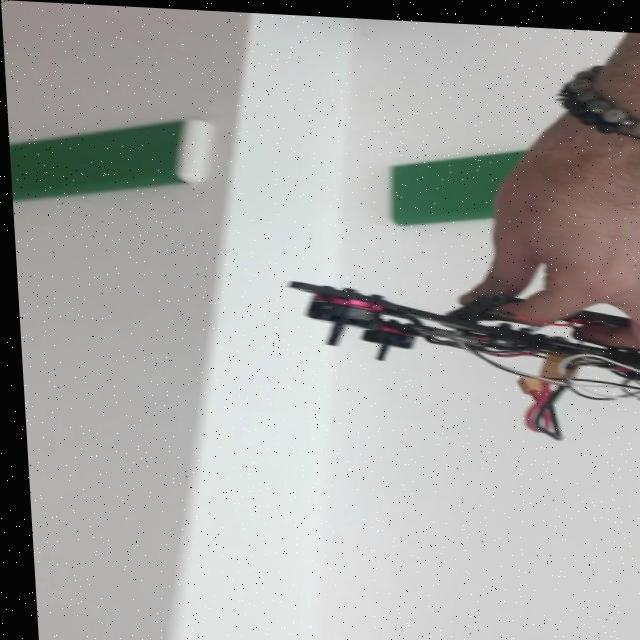drone: (264, 264, 640, 416)
